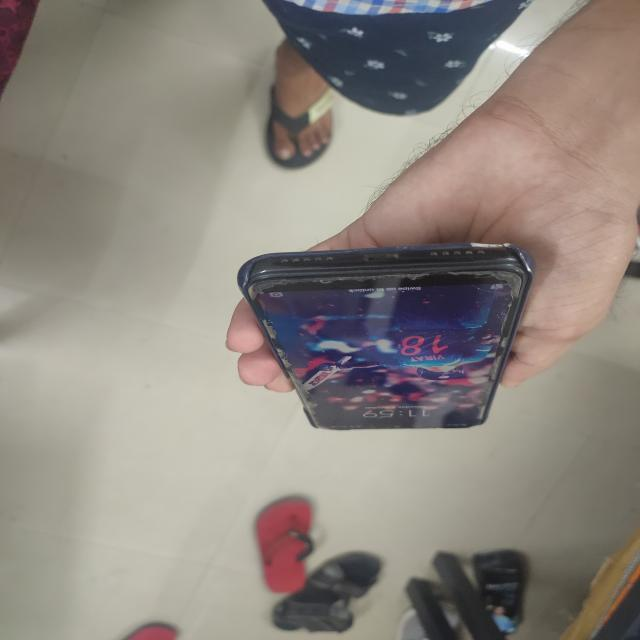Phone: (234, 242, 536, 433)
